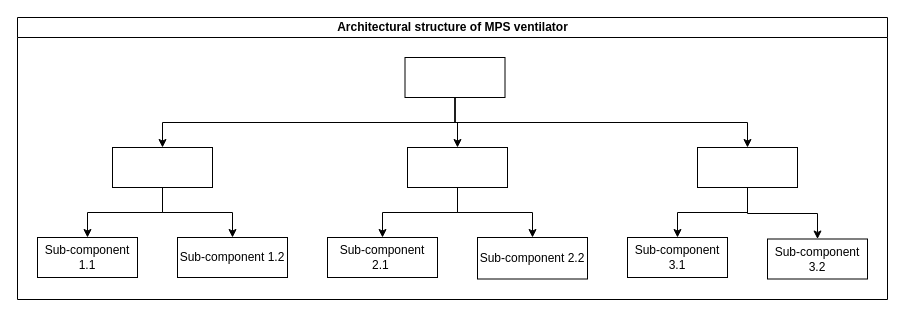
This 905x317 diagram has some shape labels left out. The centre of each missing label's shape, as x and y in pixels:
"Component 1" goes at pixel 162 167.
"Component 2" goes at pixel 457 167.
"Component 3" goes at pixel 747 167.
"Hradware" goes at pixel 454 77.
